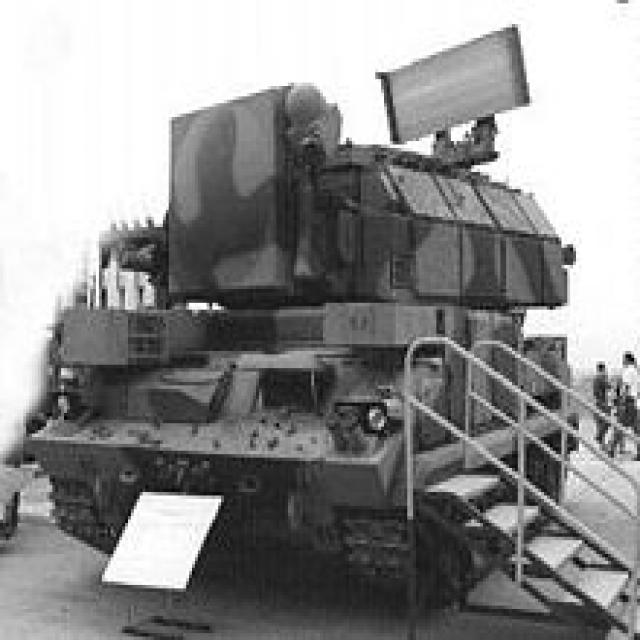MIL_EW_RDR: (51, 39, 568, 598)
